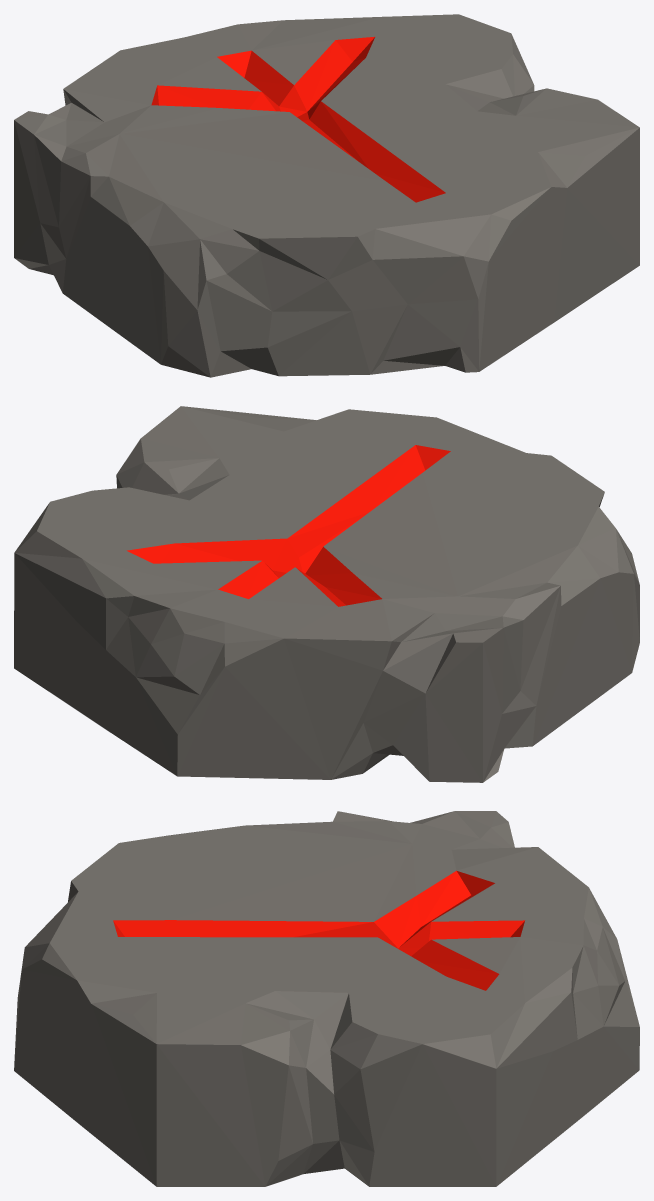
Rendered from SM_Env_Rune_Rounded_02.fbx.
The picture shows the model from 3 angles, top to bottom: view 1: azimuth 30°, elevation 25°; view 2: azimuth 150°, elevation 25°; view 3: azimuth 270°, elevation 25°; orthographic projection. The views are drawn at different scales.
Parts seen in each view (by area): view 1: SM_Env_Rune_Rounded_02; view 2: SM_Env_Rune_Rounded_02; view 3: SM_Env_Rune_Rounded_02.
Part boxes in pixels (x1,y1,x2,y2): SM_Env_Rune_Rounded_02: [14, 14, 639, 377]; SM_Env_Rune_Rounded_02: [14, 406, 639, 782]; SM_Env_Rune_Rounded_02: [14, 811, 639, 1186].
Bounding box in the file's own units: 0.9593 × 0.2738 × 1.09.
